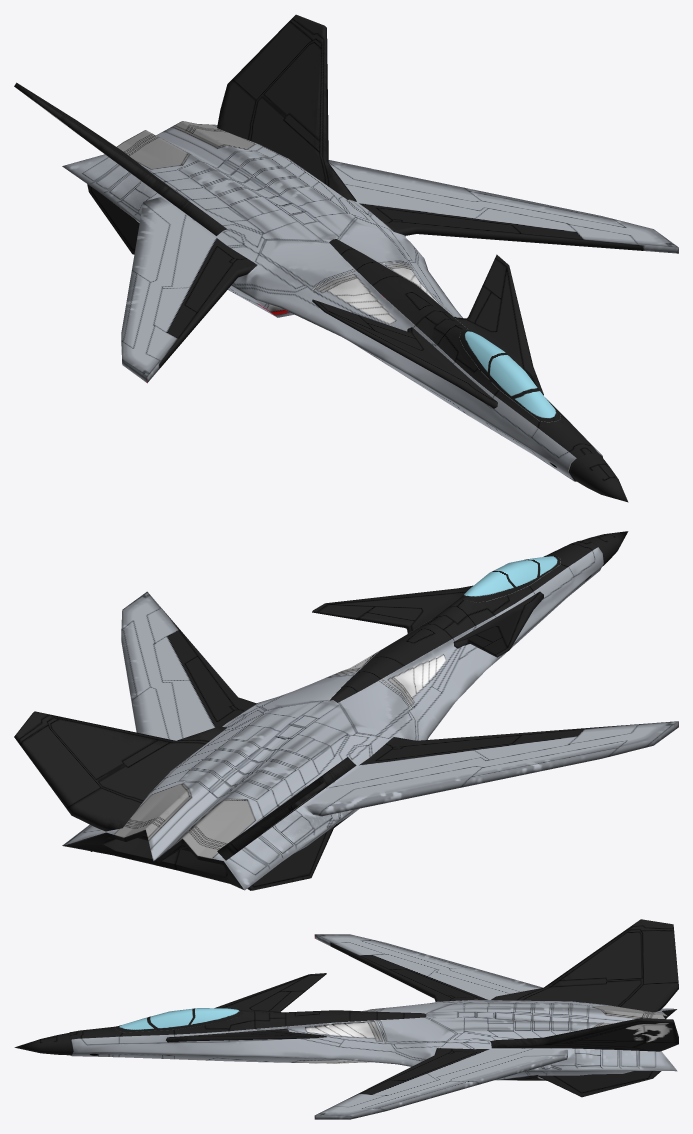
The model's file is FA59AMako.obj.
The picture shows the model from 3 angles, top to bottom: view 1: azimuth 30°, elevation 25°; view 2: azimuth 150°, elevation 25°; view 3: azimuth 270°, elevation 25°; orthographic projection. The views are drawn at different scales.
Visible parts, largest first — view 1: FA59AMako; view 2: FA59AMako; view 3: FA59AMako.
Boxes of the visible parts, x1,y1,x2,y2 form: FA59AMako: (14,14,678,502); FA59AMako: (14,531,678,890); FA59AMako: (14,919,678,1119).
Bounding box in the file's own units: 54.41 × 13.84 × 84.39.
Materials: 1 (1 with a texture image).
